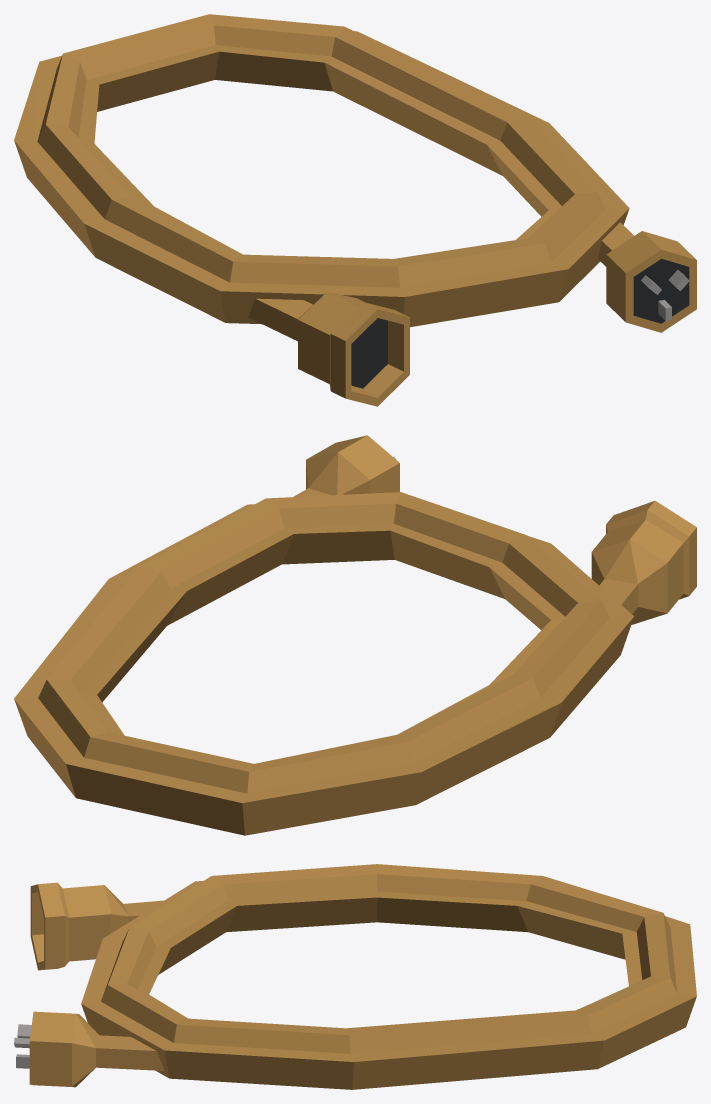
File: SM_Prop_Powercable_05.glb
The picture shows the model from 3 angles, top to bottom: view 1: azimuth 30°, elevation 25°; view 2: azimuth 150°, elevation 25°; view 3: azimuth 270°, elevation 25°; orthographic projection. The views are drawn at different scales.
Visible parts, largest first — view 1: SM_Prop_Powercable_05; view 2: SM_Prop_Powercable_05; view 3: SM_Prop_Powercable_05.
Boxes of the visible parts, box(x1,y1,x2,y2) form: SM_Prop_Powercable_05: box(14, 14, 696, 406); SM_Prop_Powercable_05: box(14, 435, 696, 835); SM_Prop_Powercable_05: box(14, 864, 696, 1089).
Size of the model in its own units: 0.3818 by 0.0788 by 0.5657.
Materials: 1 (1 with a texture image).
